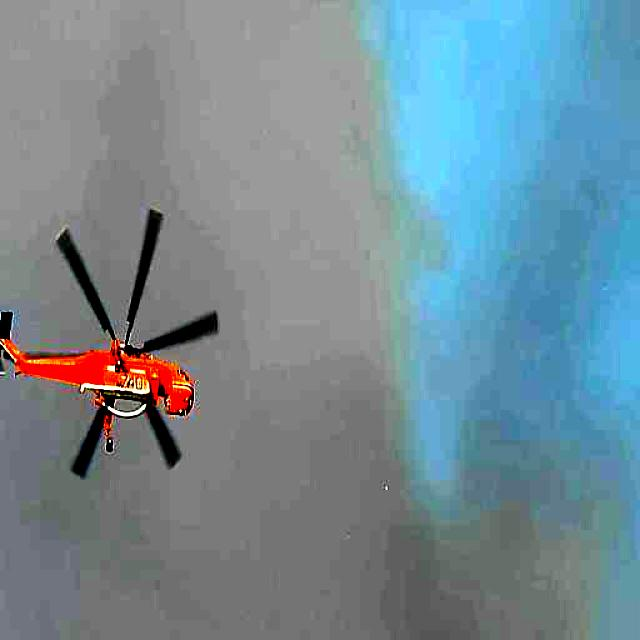drone: (0, 211, 236, 480)
